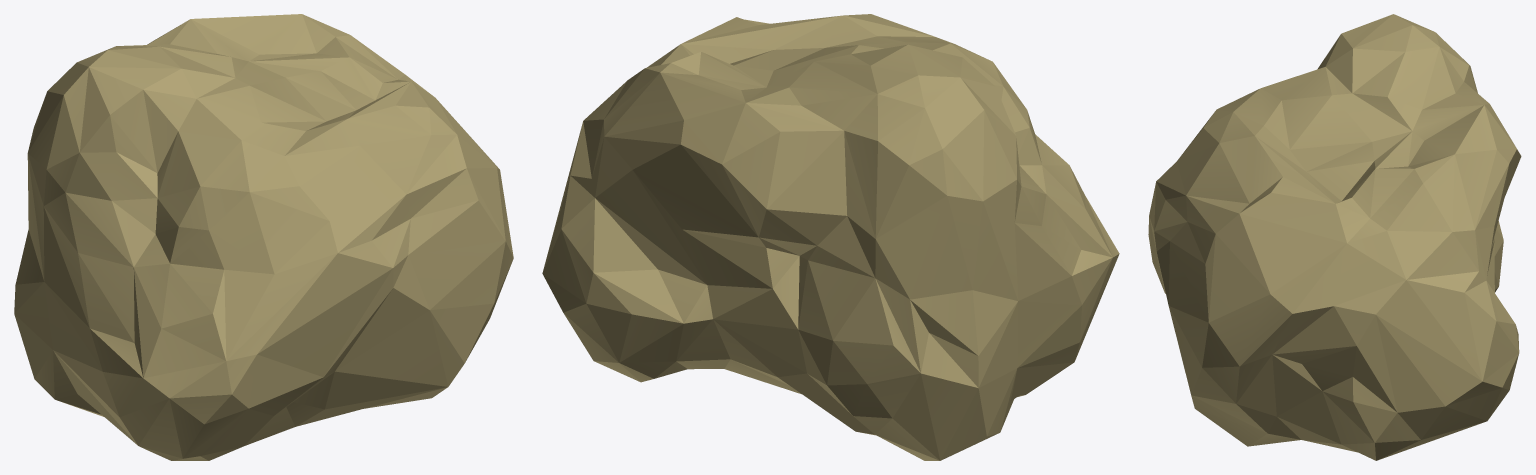
File: SM_rock_25.fbx
The picture shows the model from 3 angles, left to right: view 1: azimuth 30°, elevation 25°; view 2: azimuth 150°, elevation 25°; view 3: azimuth 270°, elevation 25°; orthographic projection. The views are drawn at different scales.
Parts seen in each view (by area): view 1: rock_25; view 2: rock_25; view 3: rock_25.
Part boxes in pixels (x1,y1,x2,y2): rock_25: (14,14,513,460); rock_25: (542,14,1119,460); rock_25: (1148,14,1521,460).
Bounding box in the file's own units: 237 × 193 × 200.
